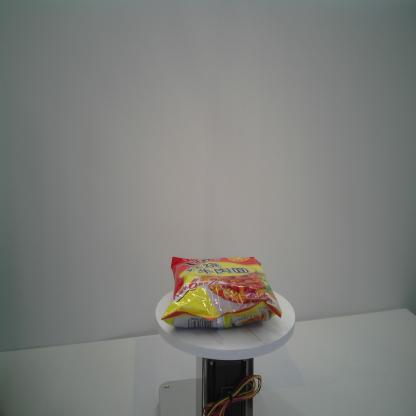Instant Noodles: (159, 255, 282, 329)
